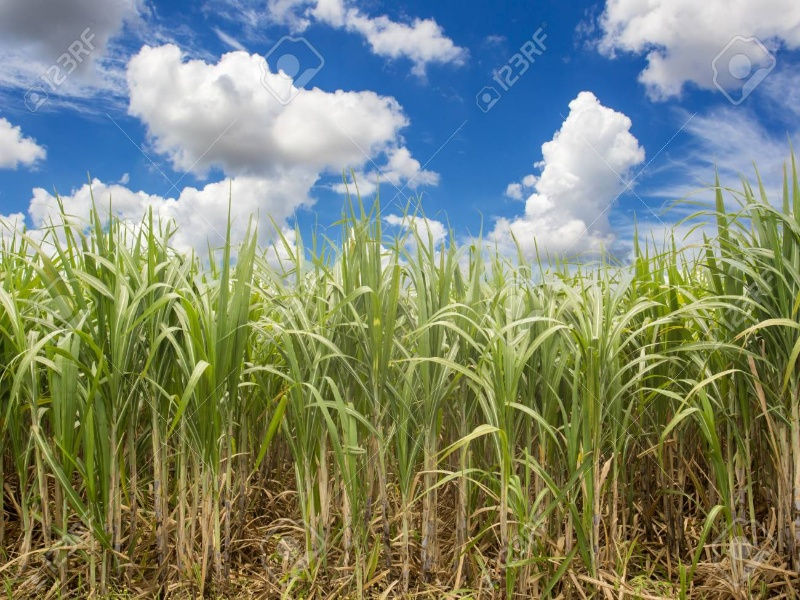sugarcane: (1, 182, 195, 574), (438, 233, 650, 583), (287, 175, 460, 549), (646, 149, 791, 564), (157, 171, 293, 551)
